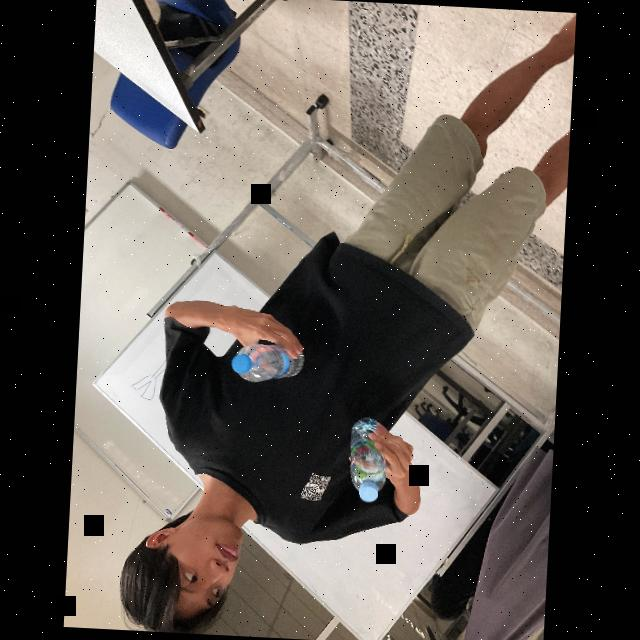plastic_bottle: (347, 417, 392, 505), (232, 338, 307, 387)
plastic_bottle_cap: (358, 479, 380, 503), (231, 352, 252, 374)
